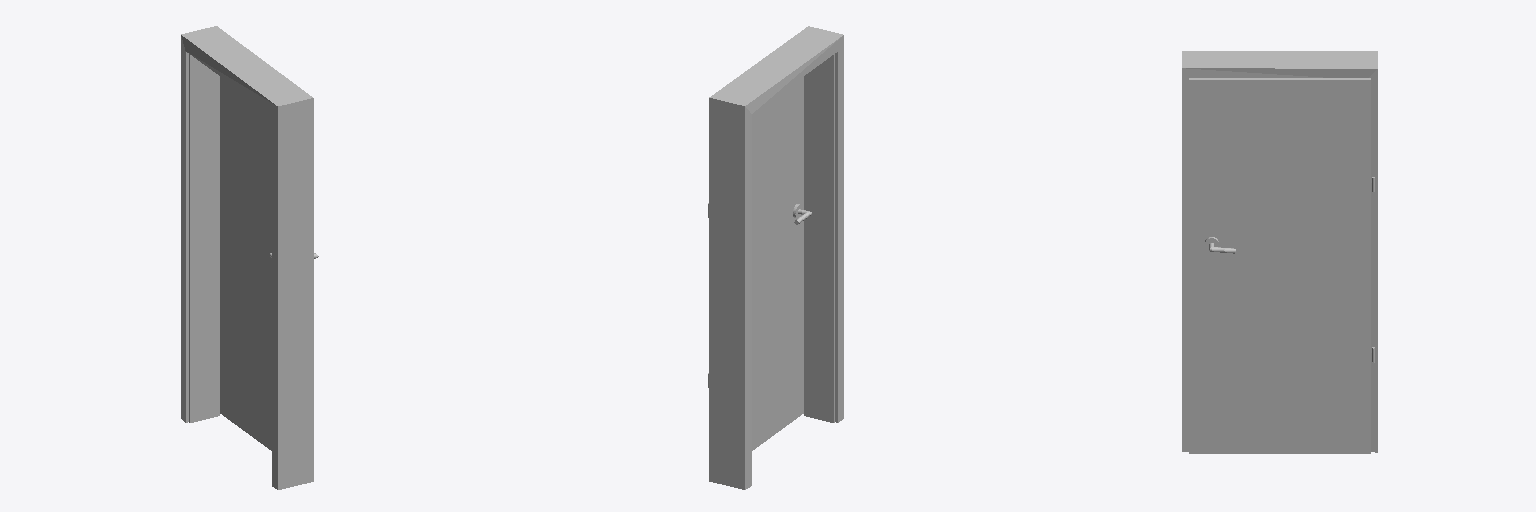
Rendered from door17.obj.
3 views of the same model, side by side, from view 1: azimuth 30°, elevation 25°; view 2: azimuth 150°, elevation 25°; view 3: azimuth 270°, elevation 25° (orthographic).
Parts seen in each view (by area): view 1: Cylinder.005, Cylinder.001; view 2: Cylinder.005, Cylinder.001; view 3: Cylinder.001, Cylinder.005.
Part boxes in pixels (bbox=[...]): Cylinder.005: bbox=[181, 26, 313, 489]; Cylinder.001: bbox=[220, 77, 271, 450]; Cylinder.005: bbox=[708, 26, 843, 489]; Cylinder.001: bbox=[708, 77, 803, 450]; Cylinder.001: bbox=[1189, 78, 1374, 453]; Cylinder.005: bbox=[1182, 51, 1377, 452].
Size of the model in its own units: 0.3039 by 2.05 by 0.95.